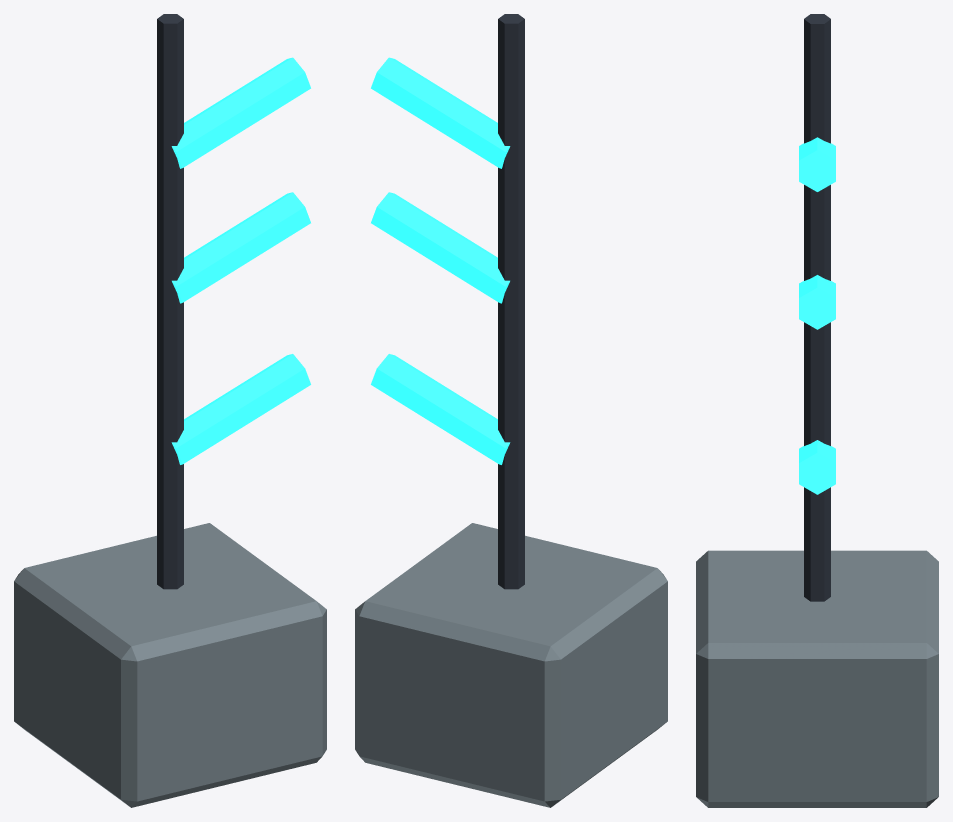
Rendered from street_009_seed11.glb.
3 views of the same model, side by side, from view 1: azimuth 30°, elevation 25°; view 2: azimuth 150°, elevation 25°; view 3: azimuth 270°, elevation 25° (orthographic). The views are drawn at different scales.
Visible parts, largest first — view 1: street_009_seed11; view 2: street_009_seed11; view 3: street_009_seed11.
Part boxes in pixels (bbox=[...]): street_009_seed11: bbox=[14, 14, 326, 807]; street_009_seed11: bbox=[355, 14, 667, 807]; street_009_seed11: bbox=[696, 14, 938, 807].
Size of the model in its own units: 0.9237 by 2.7 by 0.8.
